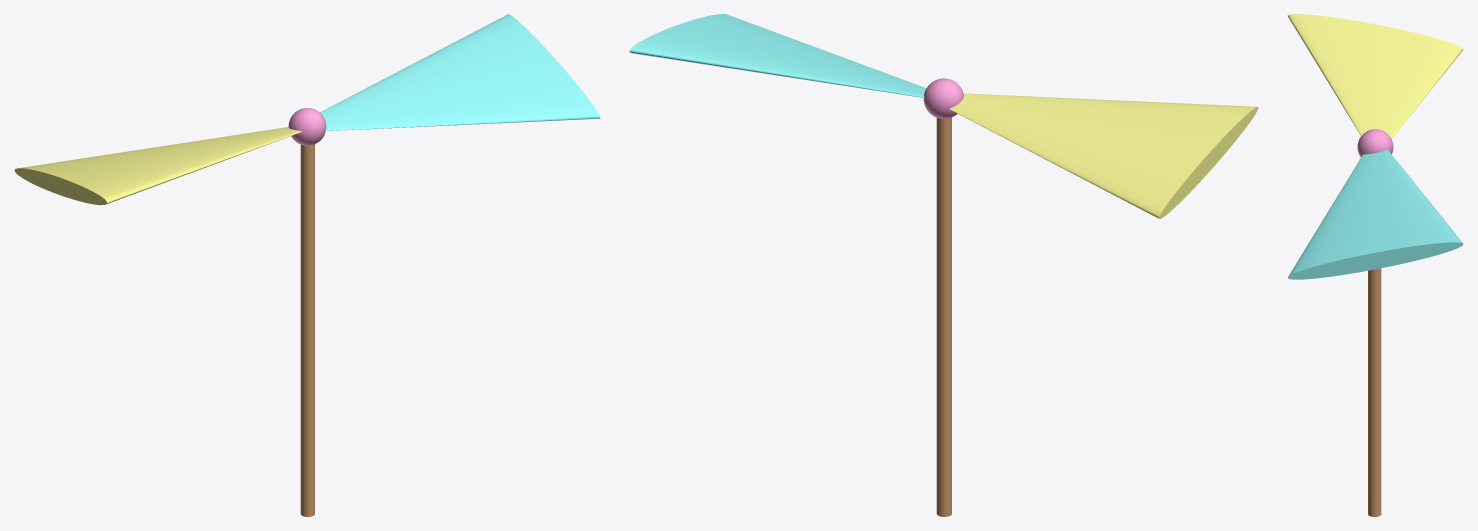
Rendered from helicopter.gltf.
3 renders of one model, left to right at view 1: azimuth 30°, elevation 25°; view 2: azimuth 150°, elevation 25°; view 3: azimuth 270°, elevation 25°, orthographic. The views are drawn at different scales.
Parts seen in each view (by area): view 1: props2, prop3, shaft, Sphere; view 2: prop3, props2, shaft, Sphere; view 3: props2, prop3, shaft, Sphere.
Boxes of the visible parts, x1,y1,x2,y2 form: props2: (320,14,600,130); prop3: (14,127,302,205); shaft: (300,144,314,516); Sphere: (288,108,326,145); prop3: (949,93,1258,218); props2: (629,14,926,97); shaft: (936,117,951,516); Sphere: (923,78,963,118); props2: (1287,149,1463,279); prop3: (1287,14,1463,138); shaft: (1368,268,1381,516); Sphere: (1357,129,1393,157).
Bounding box in the file's own units: 1.2 × 0.9459 × 0.3913.
